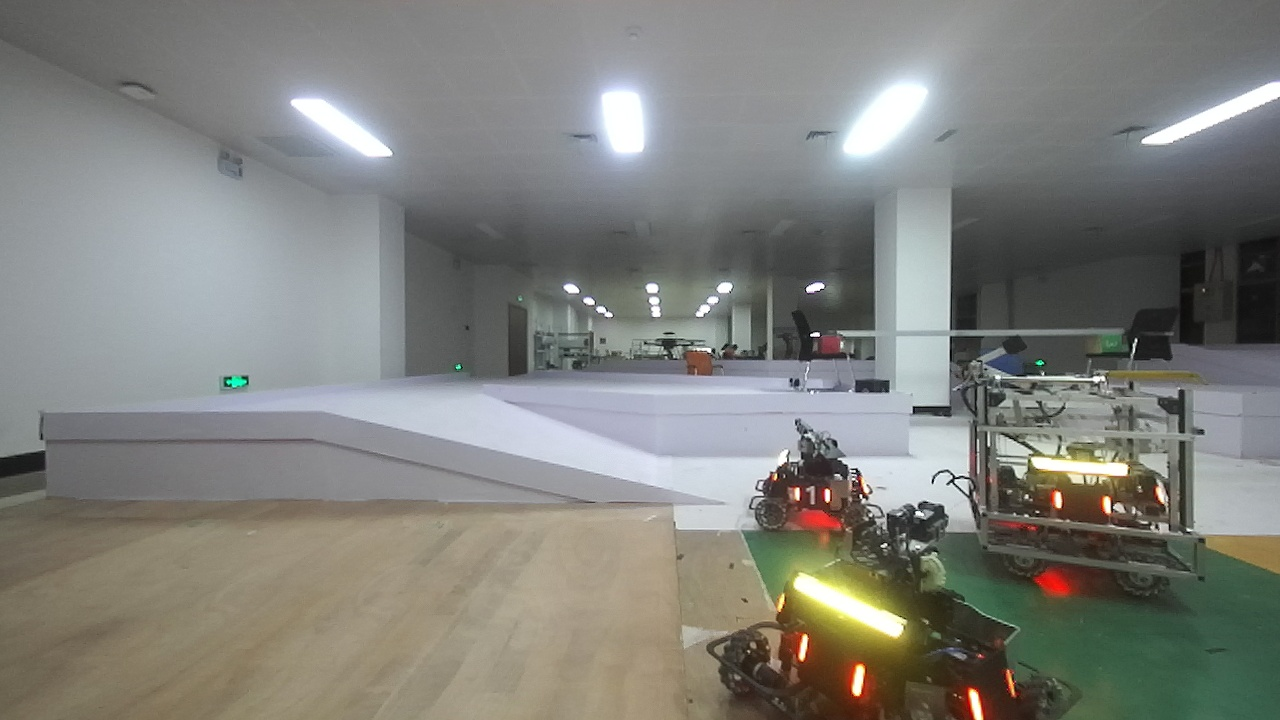car: (933, 343, 1215, 604), (739, 531, 1088, 720), (743, 418, 874, 542)
